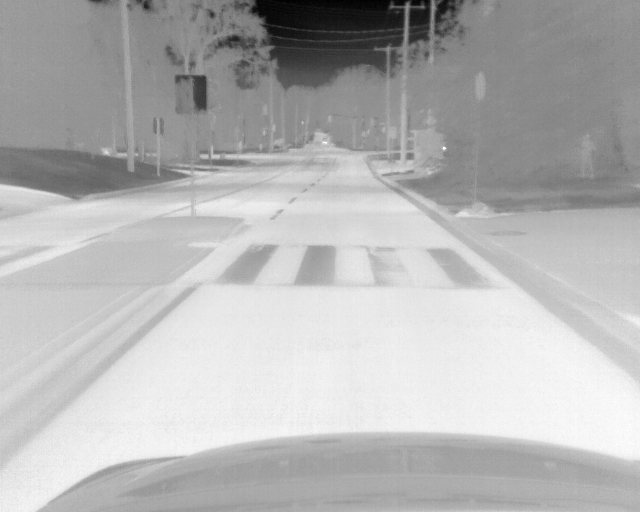car: (101, 142, 153, 159)
people: (578, 134, 601, 180)
